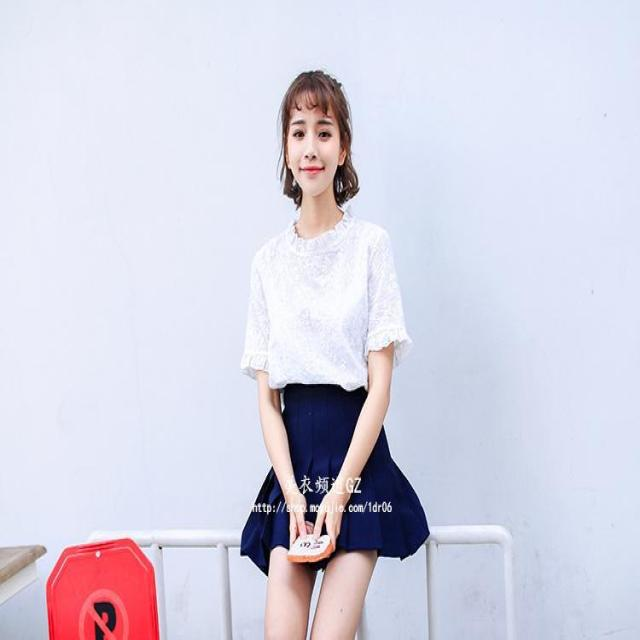short sleeve top: (241, 214, 410, 390)
skirt: (241, 378, 430, 564)
